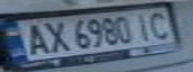0: (112, 14, 136, 44)
6: (69, 16, 90, 50)
8: (100, 15, 121, 46)
9: (84, 16, 106, 48)
A: (18, 20, 51, 56)
C: (145, 8, 175, 41)
I: (133, 10, 160, 42)
X: (39, 19, 72, 54)
